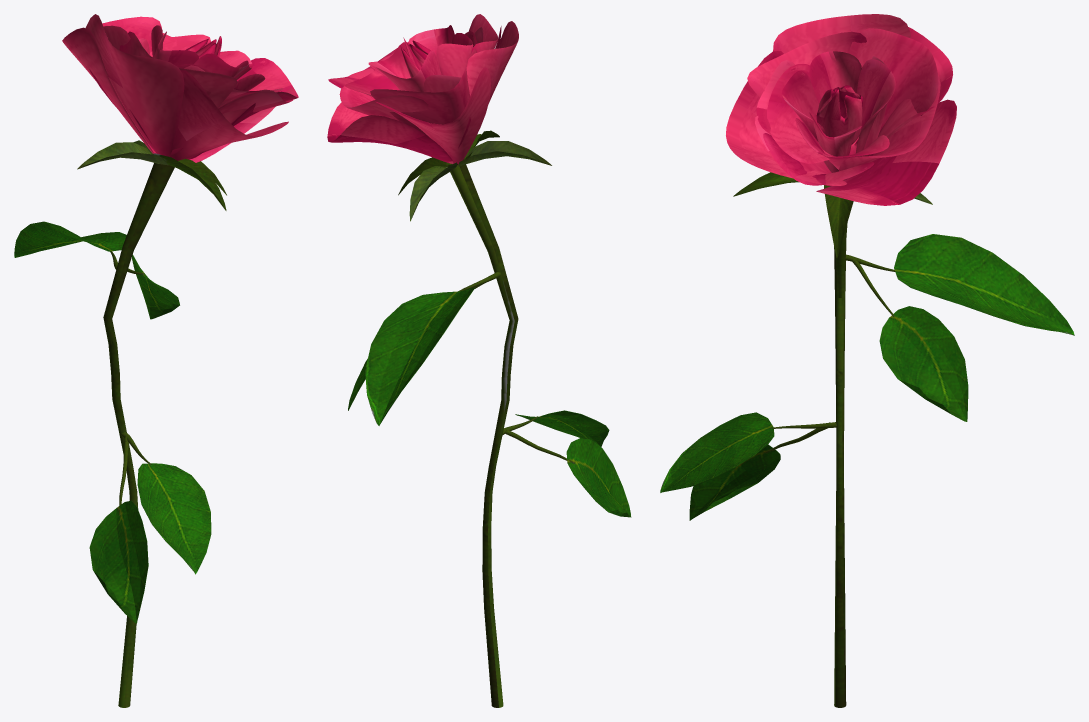
File: single_flower__rose_pink (1).glb
3 renders of one model, left to right at view 1: azimuth 30°, elevation 25°; view 2: azimuth 150°, elevation 25°; view 3: azimuth 270°, elevation 25°, orthographic. The views are drawn at different scales.
Parts seen in each view (by area): view 1: Plane.015_0, Plane.020_9, Cylinder.004_2, Plane.021_12, Plane.017_3, Plane.018_5, Plane.016_1, Plane.019_8; view 2: Plane.015_0, Plane.018_5, Cylinder.004_2, Plane.017_3, Plane.021_12, Plane.016_1, Plane.020_9, Cylinder.005_4; view 3: Plane.015_0, Plane.018_5, Plane.019_8, Plane.017_3, Cylinder.004_2, Plane.020_9, Plane.021_12, Cylinder.005_4, Plane.016_1.
Boxes of the visible parts, <box> form: Plane.015_0: <box>62,14,298,162</box>; Plane.020_9: <box>137,463,211,574</box>; Cylinder.004_2: <box>103,163,174,707</box>; Plane.021_12: <box>89,500,148,623</box>; Plane.017_3: <box>151,25,252,79</box>; Plane.018_5: <box>14,221,126,257</box>; Plane.016_1: <box>77,140,226,210</box>; Plane.019_8: <box>132,254,179,319</box>; Plane.015_0: <box>327,14,518,164</box>; Plane.018_5: <box>365,287,475,425</box>; Cylinder.004_2: <box>446,159,518,707</box>; Plane.017_3: <box>368,25,473,92</box>; Plane.021_12: <box>566,438,631,517</box>; Plane.016_1: <box>398,130,551,221</box>; Plane.020_9: <box>515,410,609,446</box>; Cylinder.005_4: <box>400,37,431,77</box>; Plane.015_0: <box>726,14,956,205</box>; Plane.018_5: <box>894,234,1074,335</box>; Plane.019_8: <box>879,306,968,421</box>; Plane.017_3: <box>781,51,895,172</box>; Cylinder.004_2: <box>834,223,847,707</box>; Plane.020_9: <box>660,412,774,492</box>; Plane.021_12: <box>689,444,780,520</box>; Cylinder.005_4: <box>816,85,862,146</box>; Plane.016_1: <box>733,172,932,257</box>.
Bounding box in the file's own units: 4.99 × 13.74 × 7.48.
2 materials, 2 textured.
